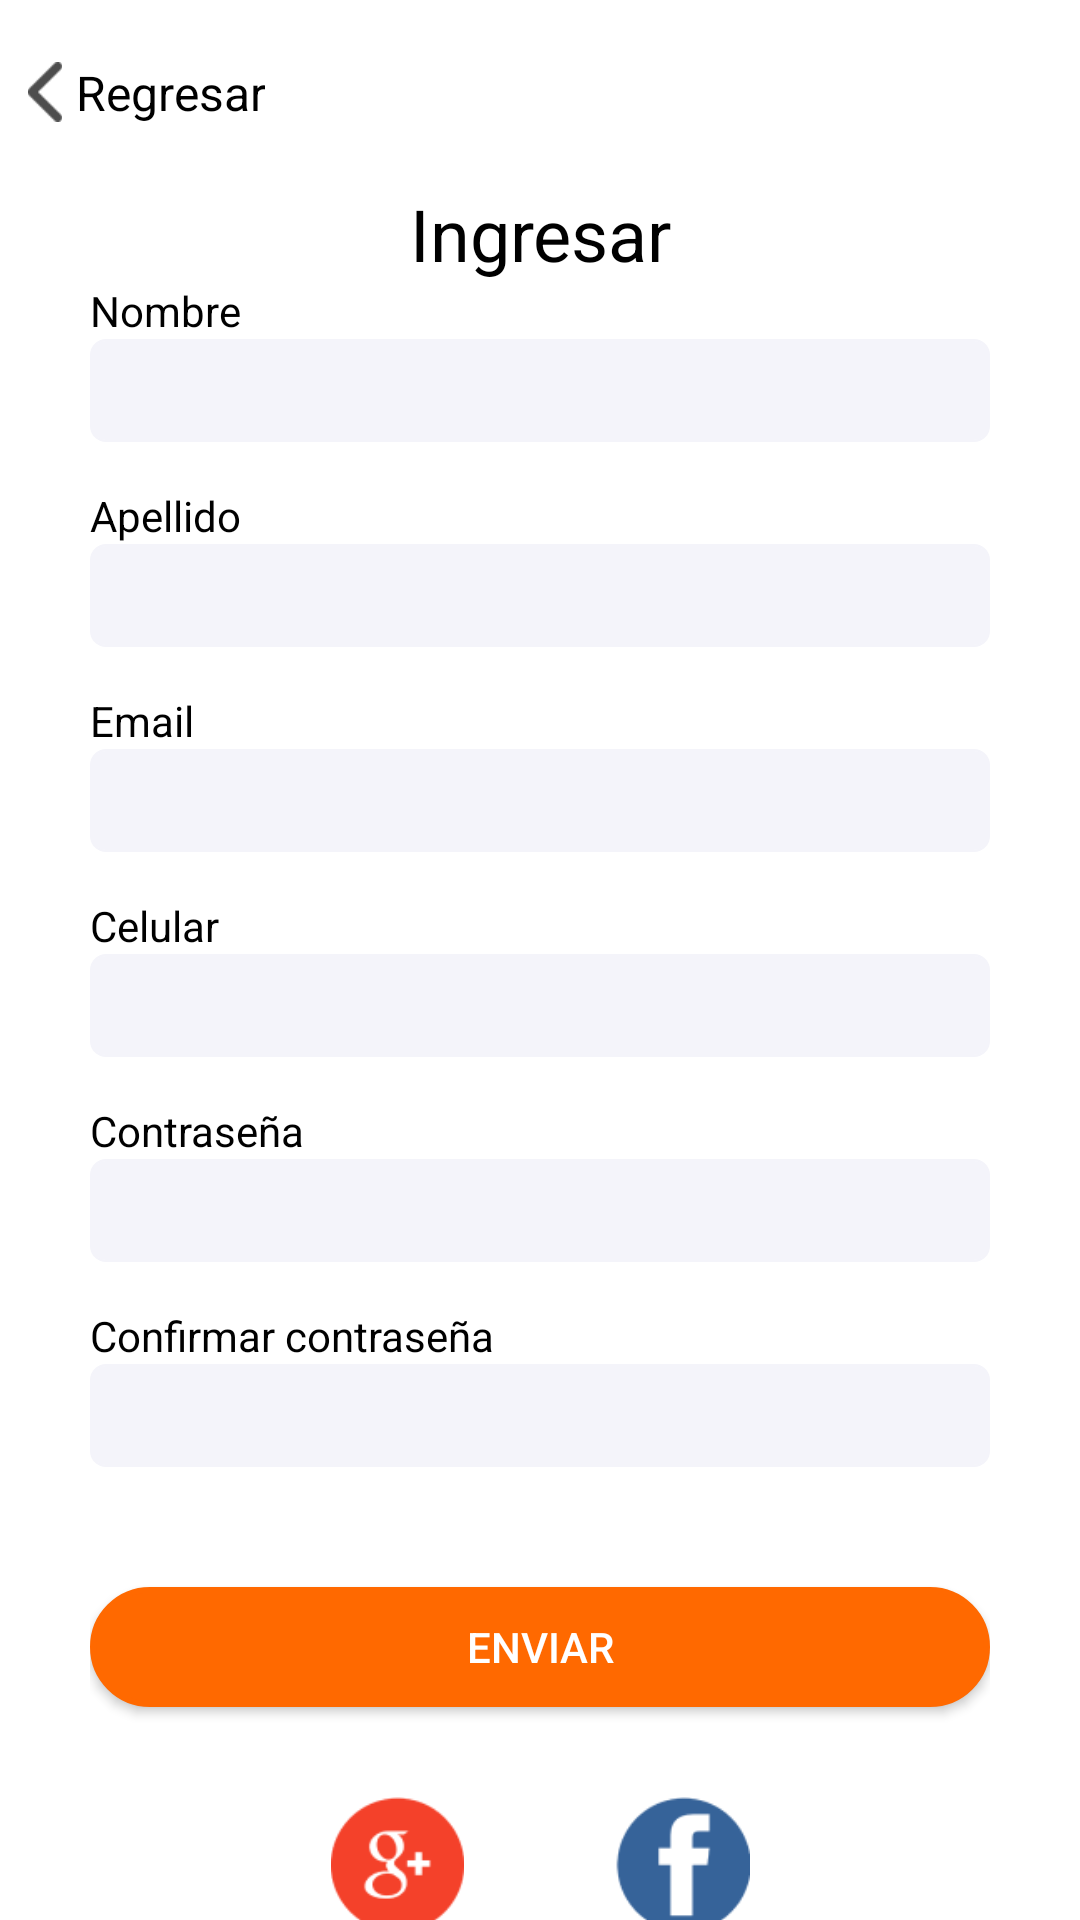

Screen size 1080px x 1920px. Icon name, then its box in pixels as (x1, y1, x2, y2):
back: (28, 62, 62, 122)
